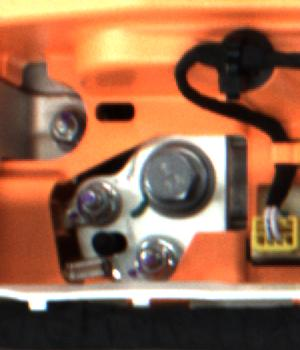nut_b: (138, 143, 217, 222)
screw_s: (129, 236, 176, 281), (74, 179, 120, 224), (41, 109, 86, 150)
